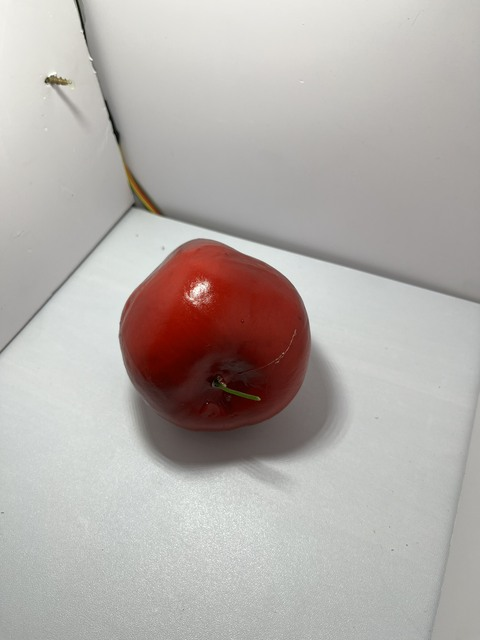Tao: (112, 229, 320, 437)
